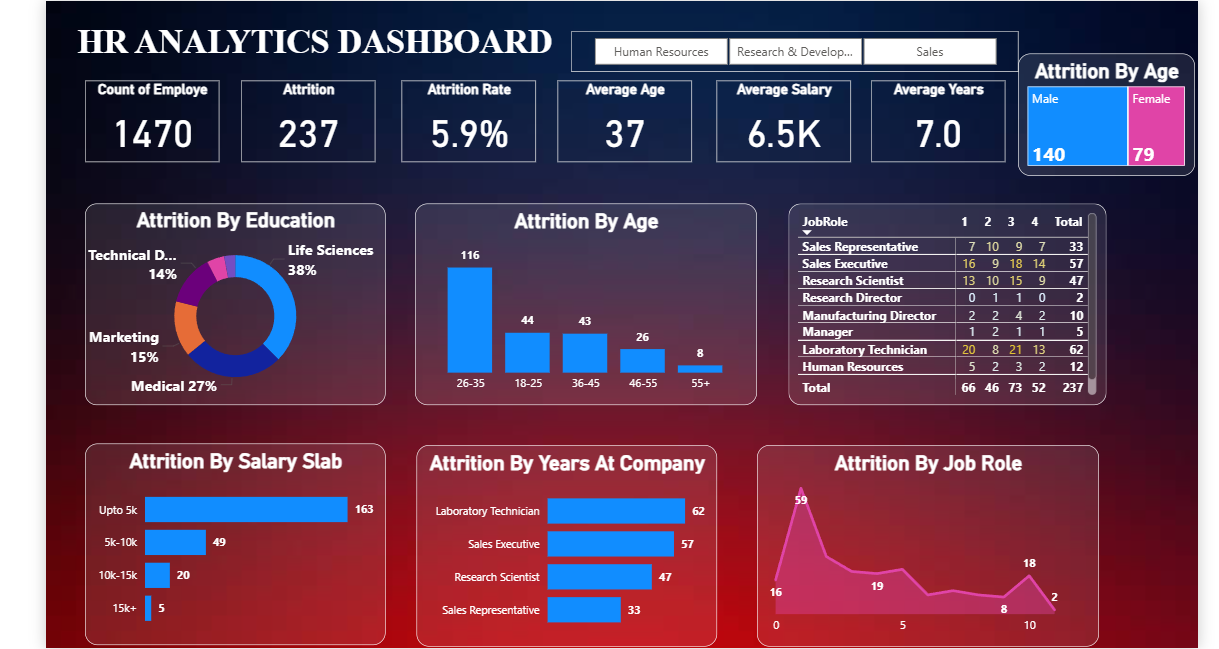

The dashboard page shown, as its layout file describes it:
{"tool":"powerbi","page":{"name":"Page 1","canvas":[1280,720],"ordinal":0},"visuals":[{"type":"card","title":"Count of Employe","fields":{"Values":["CountNonNull(HR_Analytics.EmpID)"]},"box":[42.9,89.1,149.5,90.7],"z":0},{"type":"card","title":"Attrition","fields":{"Values":["Sum(HR_Analytics.Attritioncount)"]},"box":[216.3,89.1,149.5,90.7],"z":1000},{"type":"card","title":"Attrition Rate","fields":{"Values":["HR_Analytics.AttritionRate"]},"box":[394.5,89.1,149.5,90.7],"z":2000},{"type":"card","title":"Average Age","fields":{"Values":["Avg(HR_Analytics.Age)"]},"box":[567.8,89.1,149.5,90.7],"z":3000},{"type":"card","title":"Average Salary","fields":{"Values":["Avg(HR_Analytics.MonthlyIncome)"]},"box":[744.4,89.1,149.5,90.7],"z":4000},{"type":"card","title":"Average Years","fields":{"Values":["Avg(HR_Analytics.YearsAtCompany)"]},"box":[916.2,89.1,149.5,90.7],"z":5000},{"type":"donutChart","title":"Attrition By Education","fields":{"Category":["HR_Analytics.EducationField"],"Y":["Sum(HR_Analytics.Attritioncount)"]},"box":[43.4,224.8,334,224.3],"z":6000},{"type":"columnChart","title":"Attrition By Age","fields":{"Category":["HR_Analytics.AgeGroup"],"Y":["Sum(HR_Analytics.Attritioncount)"]},"box":[409.3,224.8,380.2,224.3],"z":7000},{"type":"pivotTable","fields":{"Rows":["HR_Analytics.JobRole"],"Columns":["HR_Analytics.JobSatisfaction"],"Values":["Sum(HR_Analytics.Attritioncount)"]},"box":[824.4,224.8,353.1,224.3],"z":8000},{"type":"barChart","title":"Attrition By Salary Slab","fields":{"Category":["HR_Analytics.SalarySlab"],"Y":["Sum(HR_Analytics.Attritioncount)"]},"box":[43.4,492,334,224.3],"z":9000},{"type":"barChart","title":"Attrition By Years At Company","fields":{"Category":["HR_Analytics.JobRole"],"Y":["Sum(HR_Analytics.Attritioncount)"]},"box":[410.8,493.6,334,224.3],"z":10000},{"type":"areaChart","title":"Attrition By Job Role","fields":{"Category":["HR_Analytics.YearsAtCompany"],"Y":["Sum(HR_Analytics.Attritioncount)"]},"box":[789.4,493.6,380.2,224.3],"z":11000},{"type":"treemap","title":"Attrition By Age","fields":{"Group":["HR_Analytics.Gender"],"Values":["Sum(HR_Analytics.Attritioncount)"]},"box":[1080.3,58,196.5,136.1],"z":12000},{"type":"slicer","fields":{"Values":["HR_Analytics.Department"]},"box":[583.9,34,497,45.4],"z":13000},{"type":"textbox","box":[13.2,18.9,570.7,77.5],"z":14000}]}

Visuals, with their boxes on the page's 1280x720 design canvas (x1, y1, x2, y2). These are canvas units, not pixel positions in the 1219x649 screenshot, which may show the page scaled, cropped or inside an application window:
"Count of Employe" card: (43, 89, 192, 180)
"Attrition" card: (216, 89, 366, 180)
"Attrition Rate" card: (394, 89, 544, 180)
"Average Age" card: (568, 89, 717, 180)
"Average Salary" card: (744, 89, 894, 180)
"Average Years" card: (916, 89, 1066, 180)
"Attrition By Education" donutChart: (43, 225, 377, 449)
"Attrition By Age" columnChart: (409, 225, 790, 449)
pivotTable - HR_Analytics.JobRole x HR_Analytics.JobSatisfaction: (824, 225, 1178, 449)
"Attrition By Salary Slab" barChart: (43, 492, 377, 716)
"Attrition By Years At Company" barChart: (411, 494, 745, 718)
"Attrition By Job Role" areaChart: (789, 494, 1170, 718)
"Attrition By Age" treemap: (1080, 58, 1277, 194)
slicer - HR_Analytics.Department: (584, 34, 1081, 79)
textbox: (13, 19, 584, 96)
